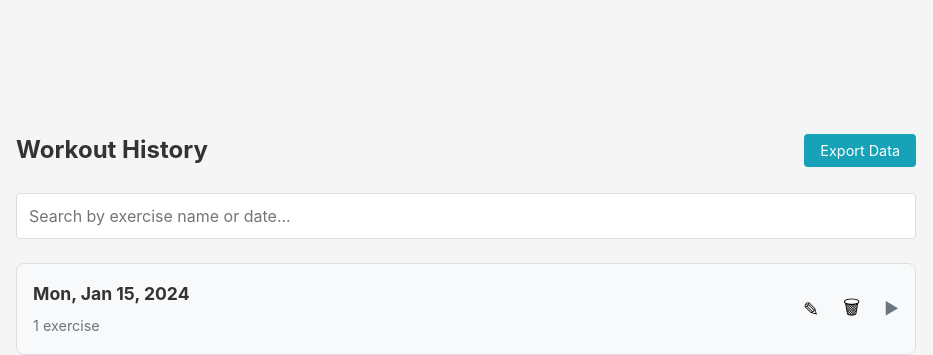
WorkoutHistory › expanding workouts › should expand workout when header is clicked
(page scrolled)
Click the element with class "workout-header": (466, 309) [17,264,915,354]
(page scrolled)
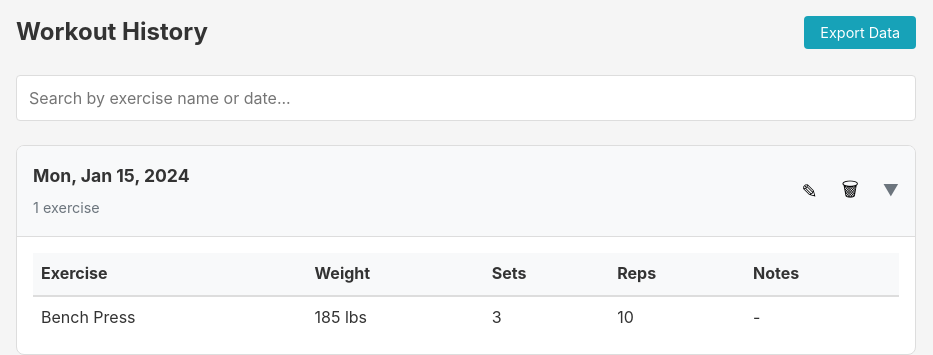
expect the element with class "workout-details" is shown: met, box [17,236,915,354]
